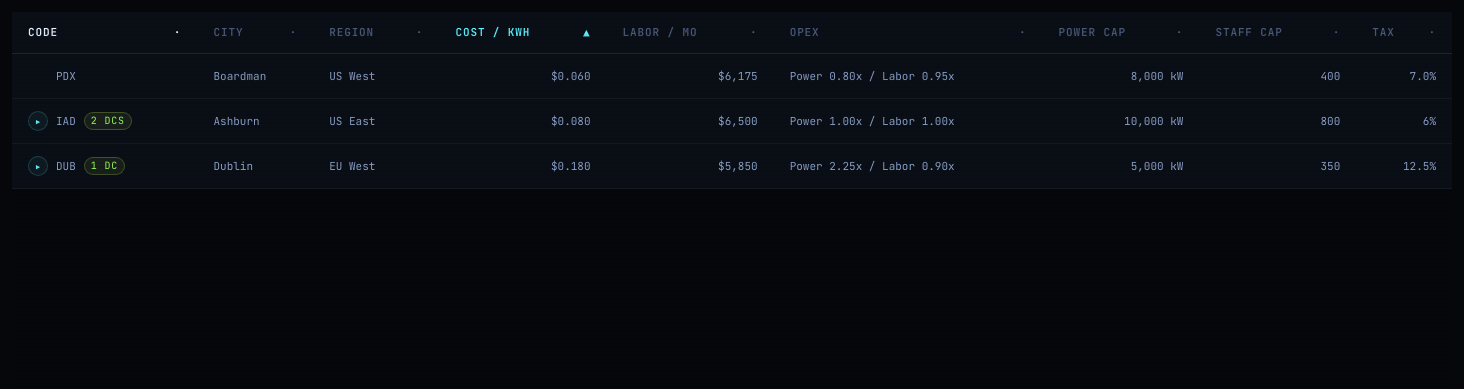
it: RegionTable › expands datacenter details beneath regions that already host facilities
This screenshot has width=1464, height=389.
What coordinates should you click on to do the following:
click the button named "Expand datacenters in US East"
I would click on:
 (38, 121)
Its box is [28,111,48,131].
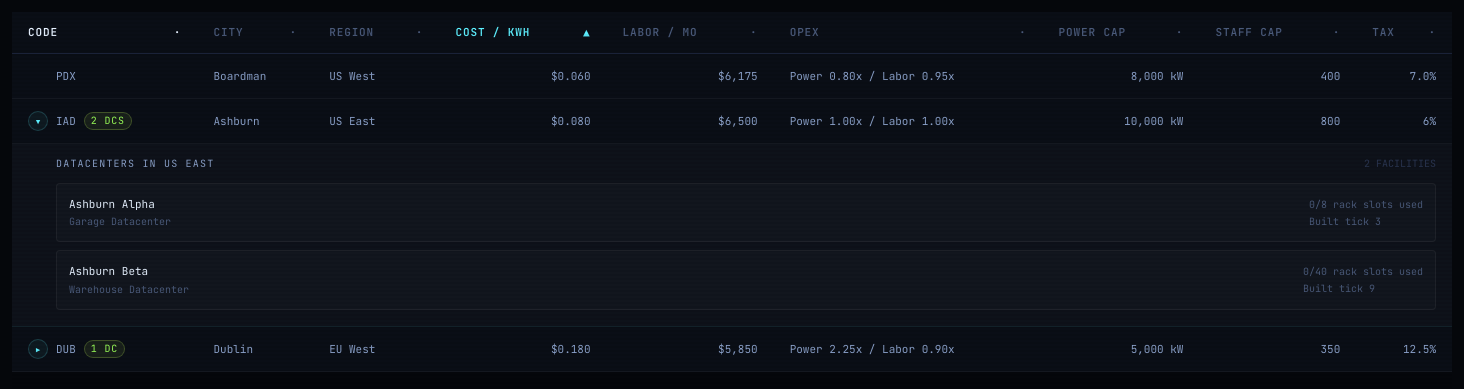
expect the text "Datacenters in US East" is shown: met, box [56,156,214,171]
expect the text "Ashburn Alpha" is shown: met, box [69,197,155,211]
expect the text "Ashburn Beta" is shown: met, box [69,264,148,278]
What coordinates should you click on to do the following:
click the button named "Collapse datacenters in US East"
I would click on:
 (38, 121)
Its box is [28,111,48,131].
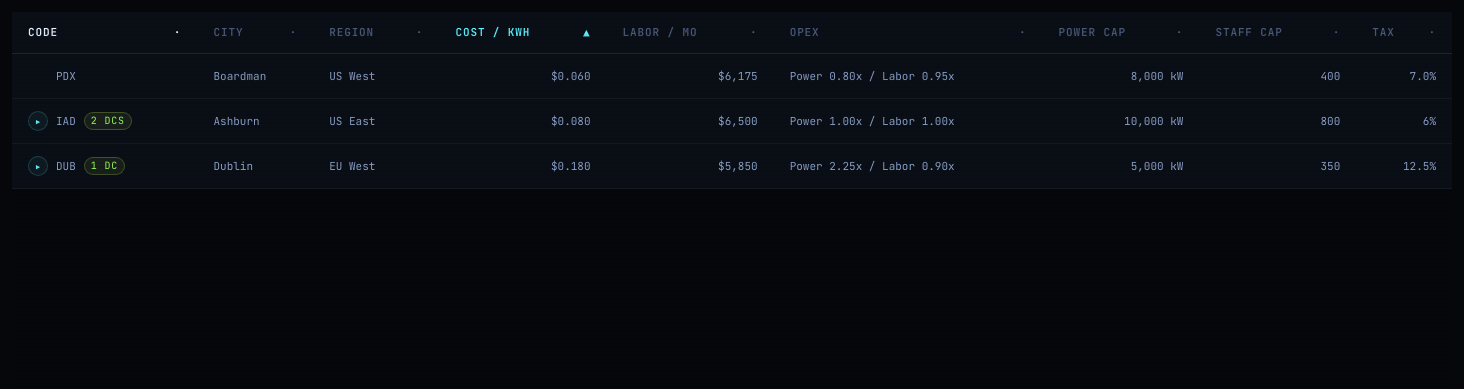
expect the text "Datacenters in US East" is gone: met
